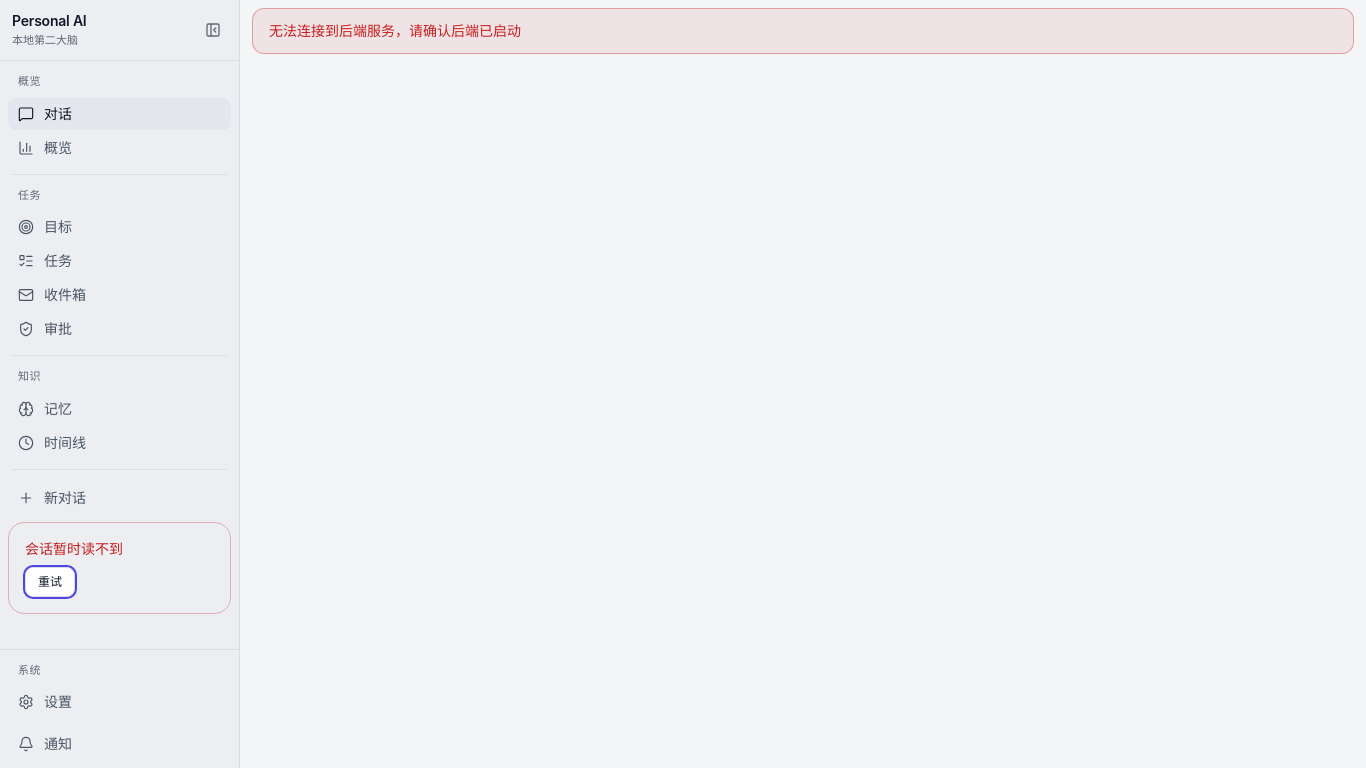
Test: Layout conversation list › shows the conversation read failure instead of an empty list, then the empty copy
Check: the message with test id "conversations-load-error" shows "会话暂时读不到", box [25,540,123,556]
Check: the text "暂无对话" is not shown
Click the button "重试" at [50, 582], box [25,566,75,596]
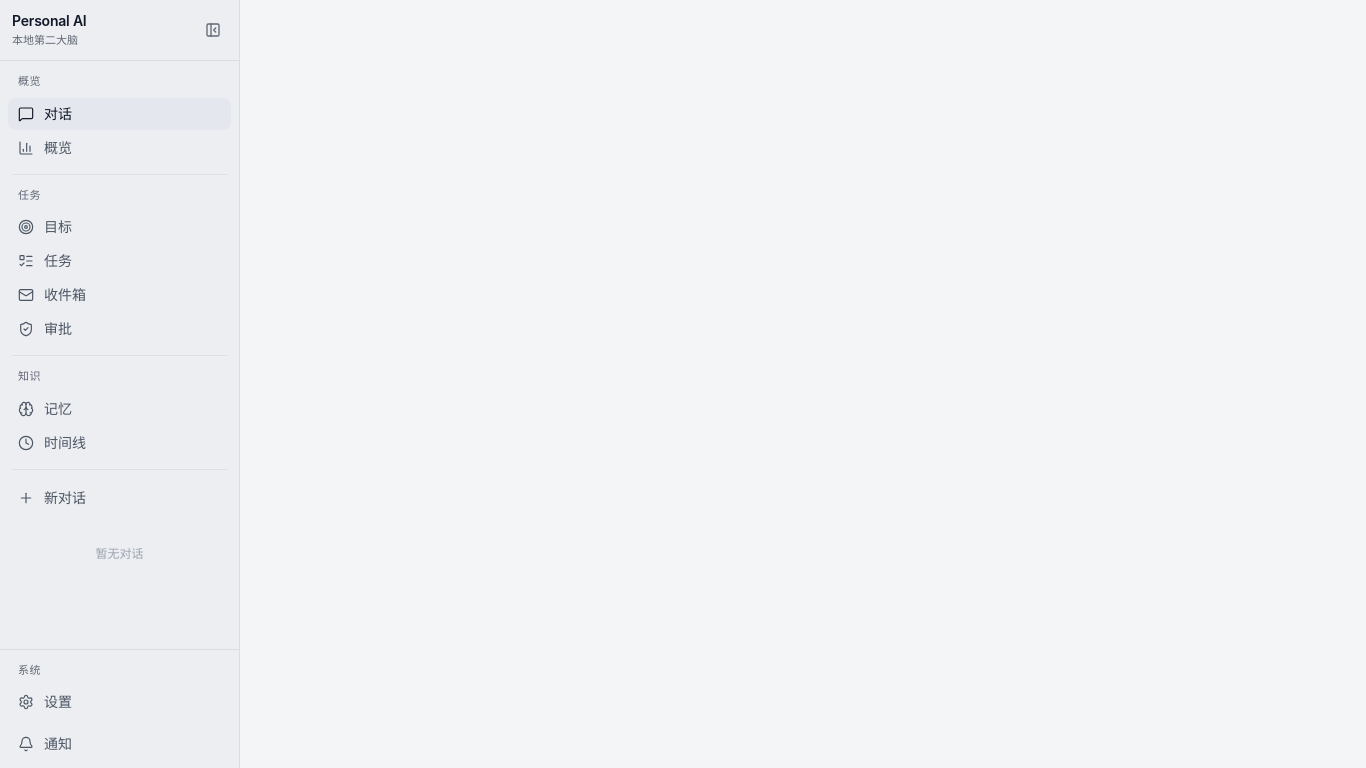
Check: the text "暂无对话" is shown, box [96,546,144,560]
Check: the message with test id "conversations-load-error" is gone
